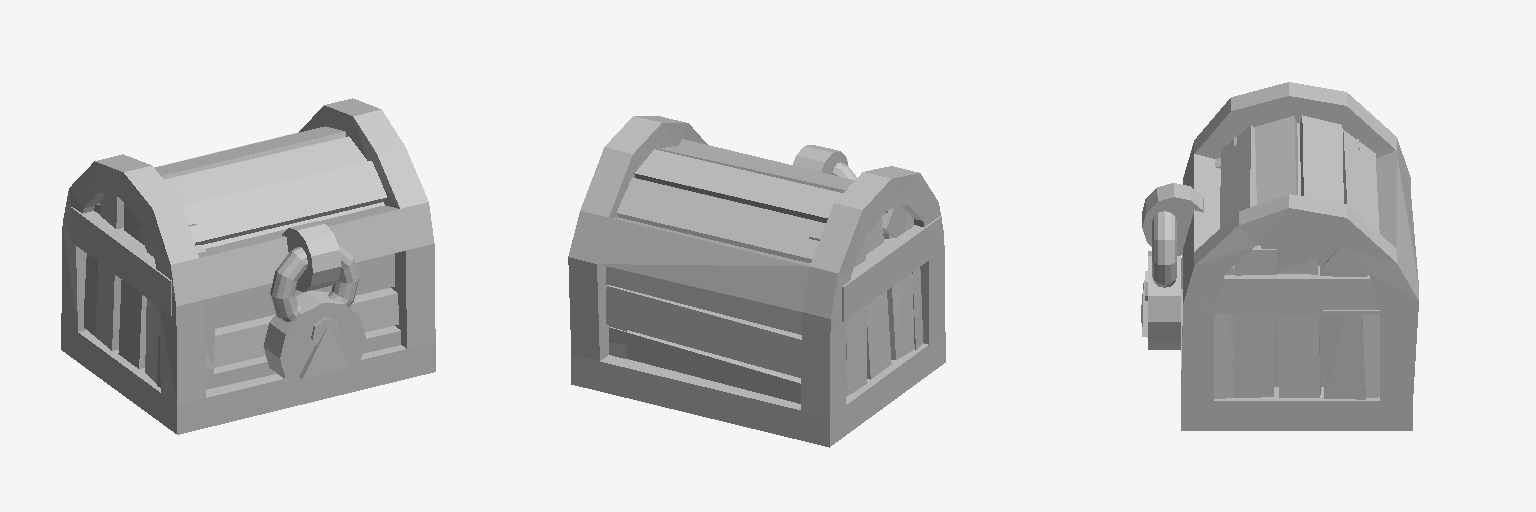
File: chest.obj
The picture shows the model from 3 angles: view 1: azimuth 30°, elevation 25°; view 2: azimuth 150°, elevation 25°; view 3: azimuth 270°, elevation 25°; orthographic projection.
Parts seen in each view (by area): view 1: group[number redacted], group[number redacted], group[number redacted], group[number redacted], group[number redacted], group[number redacted], group[number redacted], group[number redacted], group[number redacted], group[number redacted], group[number redacted], group[number redacted] (+5 smaller); view 2: group[number redacted], group[number redacted], group[number redacted], group[number redacted], group[number redacted], group[number redacted], group[number redacted], group[number redacted], group[number redacted], group[number redacted], group[number redacted], group[number redacted] (+2 smaller); view 3: group[number redacted], group[number redacted], group[number redacted], group[number redacted], group[number redacted], group[number redacted], group[number redacted], group[number redacted], group[number redacted], group[number redacted], group[number redacted], group[number redacted] (+2 smaller).
Boxes of the visible parts, x1=… form: group[number redacted]: x1=61, y1=98, x2=435, y2=434; group[number redacted]: x1=138, y1=161, x2=386, y2=255; group[number redacted]: x1=263, y1=291, x2=365, y2=392; group[number redacted]: x1=164, y1=136, x2=367, y2=204; group[number redacted]: x1=71, y1=207, x2=171, y2=315; group[number redacted]: x1=206, y1=288, x2=398, y2=369; group[number redacted]: x1=215, y1=253, x2=394, y2=328; group[number redacted]: x1=270, y1=242, x2=358, y2=322; group[number redacted]: x1=124, y1=126, x2=345, y2=206; group[number redacted]: x1=282, y1=221, x2=341, y2=291; group[number redacted]: x1=96, y1=194, x2=123, y2=350; group[number redacted]: x1=118, y1=205, x2=146, y2=368; group[number redacted]: x1=568, y1=116, x2=945, y2=447; group[number redacted]: x1=617, y1=177, x2=825, y2=262; group[number redacted]: x1=606, y1=285, x2=801, y2=377; group[number redacted]: x1=634, y1=149, x2=842, y2=222; group[number redacted]: x1=609, y1=326, x2=800, y2=403; group[number redacted]: x1=842, y1=216, x2=941, y2=321; group[number redacted]: x1=605, y1=266, x2=801, y2=334; group[number redacted]: x1=866, y1=217, x2=891, y2=379; group[number redacted]: x1=883, y1=210, x2=914, y2=359; group[number redacted]: x1=658, y1=146, x2=883, y2=232; group[number redacted]: x1=809, y1=236, x2=866, y2=395; group[number redacted]: x1=679, y1=139, x2=911, y2=237; group[number redacted]: x1=1181, y1=82, x2=1418, y2=430; group[number redacted]: x1=1201, y1=266, x2=1379, y2=313; group[number redacted]: x1=1233, y1=245, x2=1276, y2=397; group[number redacted]: x1=1255, y1=116, x2=1309, y2=270; group[number redacted]: x1=1319, y1=241, x2=1365, y2=399; group[number redacted]: x1=1277, y1=259, x2=1320, y2=397; group[number redacted]: x1=1300, y1=115, x2=1343, y2=264; group[number redacted]: x1=1323, y1=130, x2=1379, y2=276; group[number redacted]: x1=1220, y1=125, x2=1256, y2=227; group[number redacted]: x1=1148, y1=251, x2=1180, y2=349; group[number redacted]: x1=1142, y1=183, x2=1203, y2=255; group[number redacted]: x1=1152, y1=211, x2=1176, y2=287.
Bounding box in the file's own units: 1.48 × 1.21 × 1.36.